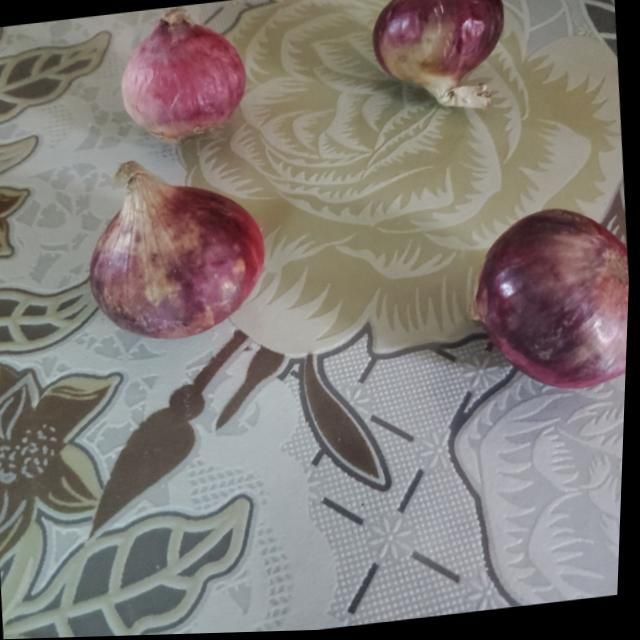onion: (77, 148, 272, 347), (470, 201, 634, 399), (112, 0, 254, 143), (364, 0, 511, 123)
